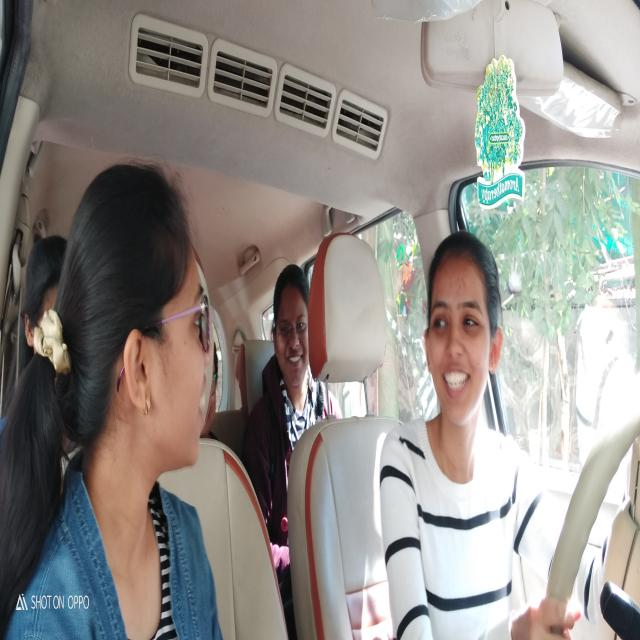LeftRight: (422, 228, 503, 438)
person: (69, 168, 215, 518), (19, 228, 68, 373), (271, 262, 316, 391)
talking: (439, 358, 472, 398), (196, 375, 209, 428)
